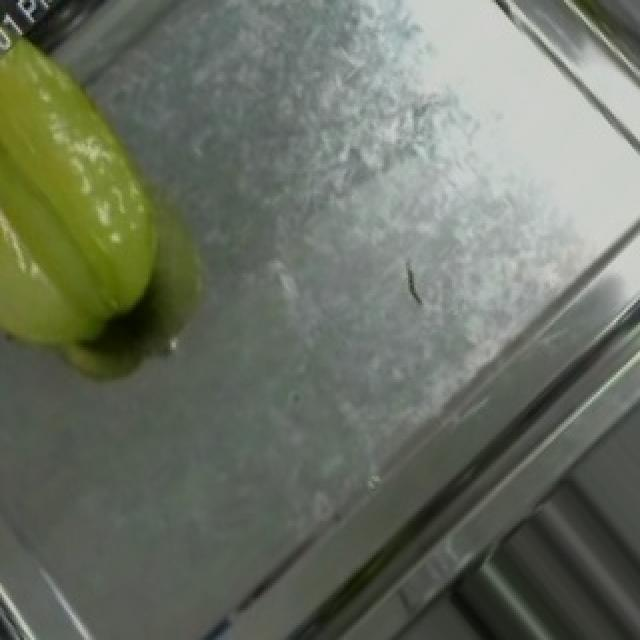fruit: (0, 12, 232, 377)
